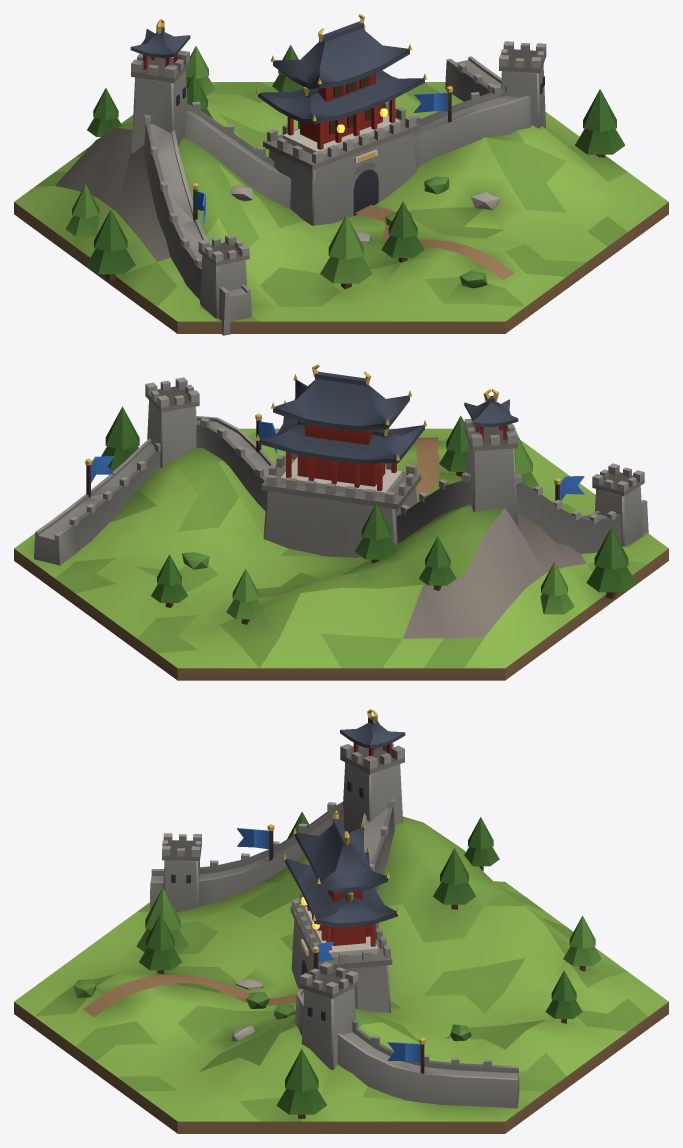
Rendered from w_great_wall.glb.
3 views of the same model, one above another, from view 1: azimuth 30°, elevation 25°; view 2: azimuth 150°, elevation 25°; view 3: azimuth 270°, elevation 25° (orthographic).
Visible parts, largest first — view 1: w_great_wall; view 2: w_great_wall; view 3: w_great_wall.
Part boxes in pixels (box(x1,y1,x2,y2)): w_great_wall: box(14, 14, 668, 335); w_great_wall: box(14, 364, 668, 680); w_great_wall: box(14, 709, 668, 1133).
Size of the model in its own units: 1.52 by 0.6185 by 1.64.
